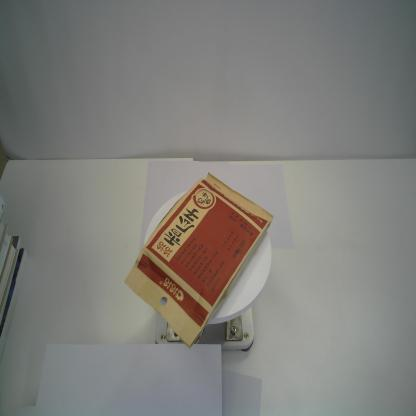Dried Food: (123, 169, 274, 350)
